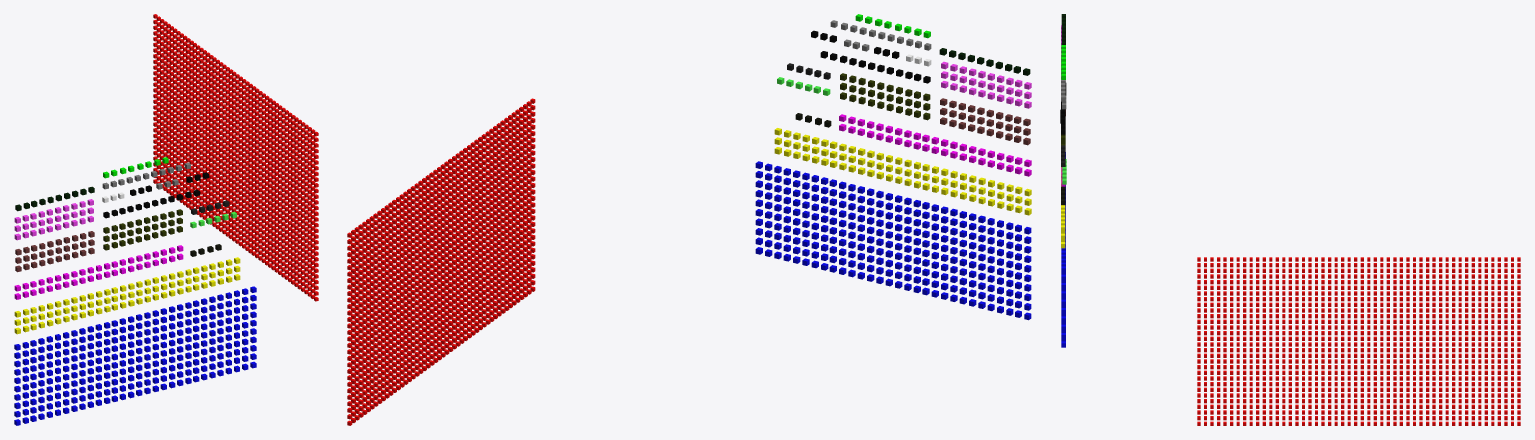
Rendered from Cube_test_1544_static_layout_1.obj.
3 views of the same model, side by side, from view 1: azimuth 30°, elevation 25°; view 2: azimuth 150°, elevation 25°; view 3: azimuth 270°, elevation 25° (orthographic). The views are drawn at different scales.
Parts seen in each view (by area): view 1: pCube81, pCube666, pCube667, pCube668, pCube673, pCube674, pCube672, pCube677, pCube682, pCube680, pCube675; view 2: pCube81, pCube666, pCube667, pCube668, pCube672, pCube673, pCube674, pCube677; view 3: pCube81, pCube666.
Part boxes in pixels (box(x1,y1,x2,y2)): pCube81: box(153, 14, 318, 301); pCube666: box(14, 286, 256, 425); pCube667: box(14, 257, 240, 334); pCube668: box(14, 245, 183, 299); pCube673: box(15, 231, 94, 272); pCube674: box(103, 209, 182, 250); pCube672: box(14, 199, 93, 240); pCube677: box(103, 189, 199, 218); pCube682: box(102, 162, 190, 189); pCube680: box(15, 186, 94, 211); pCube675: box(103, 157, 168, 178); pCube81: box(347, 98, 535, 425); pCube666: box(755, 161, 1031, 320); pCube667: box(774, 128, 1031, 215); pCube668: box(839, 114, 1031, 176); pCube672: box(941, 61, 1031, 108); pCube673: box(940, 98, 1030, 145); pCube674: box(840, 73, 930, 120); pCube677: box(820, 51, 930, 83); pCube81: box(1197, 257, 1520, 425); pCube666: box(1061, 152, 1065, 347).
Size of the model in its own units: 92.42 by 58.57 by 100.
